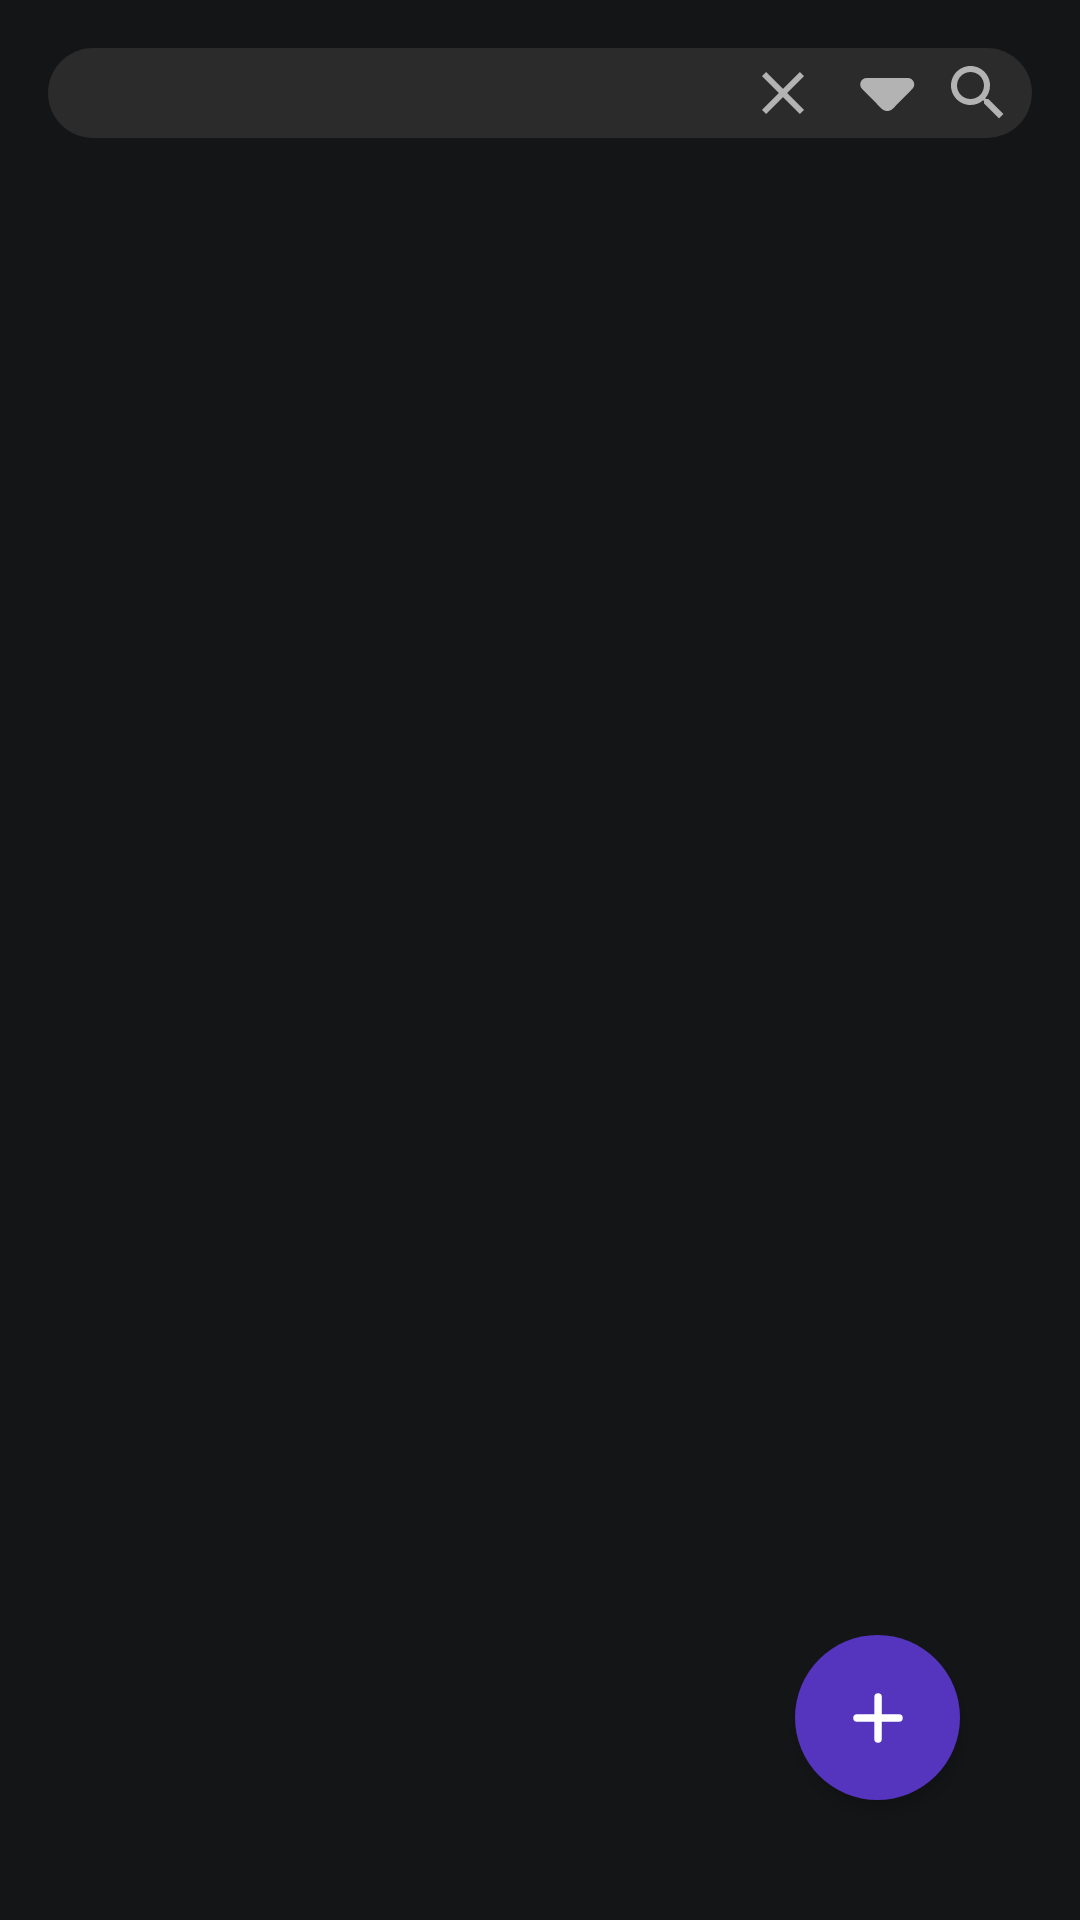

Icons on this 1080 x 1920 Android screen, each with its box as (x1, y1, x2, y2):
arrow down: (860, 78, 915, 111)
plus: (795, 1635, 960, 1800)
search: (951, 66, 1003, 118)
search tag clear: (762, 72, 804, 114)
